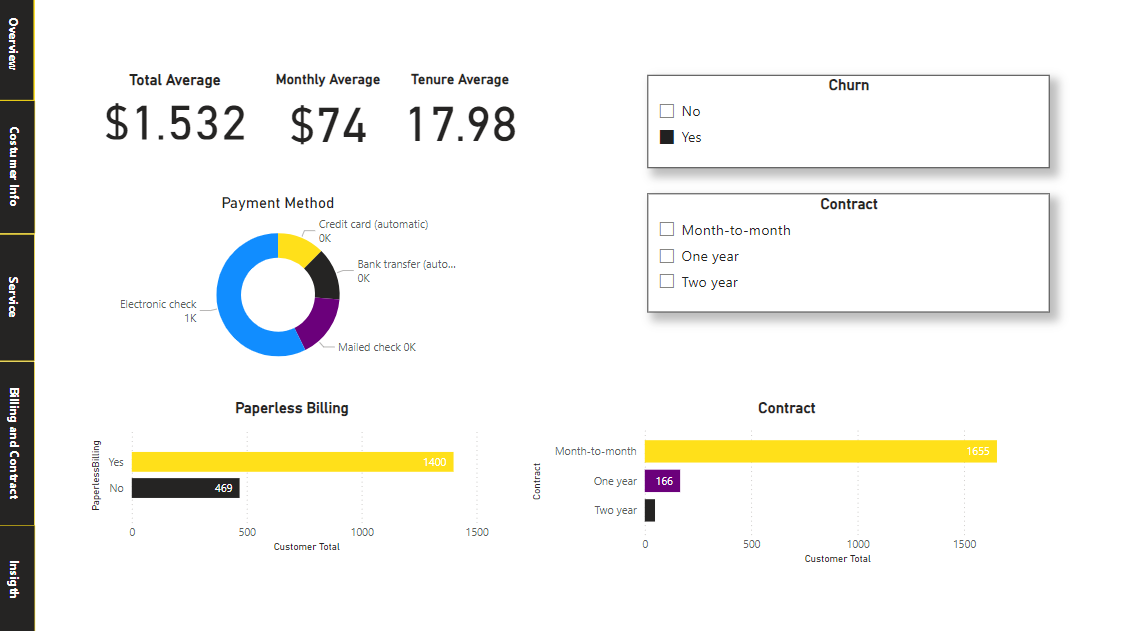

The page's visual inventory and layout, read from the dashboard file:
{"tool":"powerbi","page":{"name":"Billing and Contract","canvas":[1280,720],"ordinal":3},"visuals":[{"type":"donutChart","title":"Payment Method","fields":{"Category":["Tabel.PaymentMethod"],"Y":["Tabel.Total Pelanggan"]},"box":[101.7,228.3,425,205],"z":0},{"type":"barChart","title":"Paperless Billing","fields":{"Category":["Tabel.PaperlessBilling"],"Y":["Tabel.Total Pelanggan"]},"box":[101.7,456.7,456.7,175],"z":1000},{"type":"slicer","title":"Churn","fields":{"Values":["Tabel.Churn"]},"box":[725,96.7,446.7,103.3],"z":2000},{"type":"slicer","title":"Contract","fields":{"Values":["Tabel.Contract"]},"box":[725,228.3,446.7,131.7],"z":3000},{"type":"shape","box":[0,0,43.8,125.5],"z":4000},{"type":"shape","box":[0,125.7,44.5,147.9],"z":5000},{"type":"shape","box":[0,272.9,43.8,141.4],"z":6000},{"type":"shape","box":[0,414.3,43.8,183.2],"z":7000},{"type":"shape","box":[0,596.5,44.5,122.5],"z":8000},{"type":"barChart","title":"Contract","fields":{"Category":["Tabel.Contract"],"Y":["Tabel.Total Pelanggan"]},"box":[591.7,456.7,576.7,188.3],"z":9000},{"type":"card","title":"Monthly Average","fields":{"Values":["Tabel.AverageMonthlyCharge"]},"box":[298.3,91.7,143.3,88.3],"z":10000},{"type":"card","title":"Total  Average","fields":{"Values":["Tabel.AverageTotalCharge"]},"box":[101.7,91.7,196.7,81.7],"z":11000},{"type":"card","title":"Tenure Average","fields":{"Values":["Tabel.AverageTenure"]},"box":[441.7,91.7,150,85],"z":12000}]}

Visuals, with their boxes on the page's 1280x720 design canvas (x1, y1, x2, y2). These are canvas units, not pixel positions in the 1139x631 screenshot, which may show the page scaled, cropped or inside an application window:
"Payment Method" donutChart: {"x1": 102, "y1": 228, "x2": 527, "y2": 433}
"Paperless Billing" barChart: {"x1": 102, "y1": 457, "x2": 558, "y2": 632}
"Churn" slicer: {"x1": 725, "y1": 97, "x2": 1172, "y2": 200}
"Contract" slicer: {"x1": 725, "y1": 228, "x2": 1172, "y2": 360}
shape: {"x1": 0, "y1": 0, "x2": 44, "y2": 126}
shape: {"x1": 0, "y1": 126, "x2": 44, "y2": 274}
shape: {"x1": 0, "y1": 273, "x2": 44, "y2": 414}
shape: {"x1": 0, "y1": 414, "x2": 44, "y2": 598}
shape: {"x1": 0, "y1": 596, "x2": 44, "y2": 719}
"Contract" barChart: {"x1": 592, "y1": 457, "x2": 1168, "y2": 645}
"Monthly Average" card: {"x1": 298, "y1": 92, "x2": 442, "y2": 180}
"Total  Average" card: {"x1": 102, "y1": 92, "x2": 298, "y2": 173}
"Tenure Average" card: {"x1": 442, "y1": 92, "x2": 592, "y2": 177}
